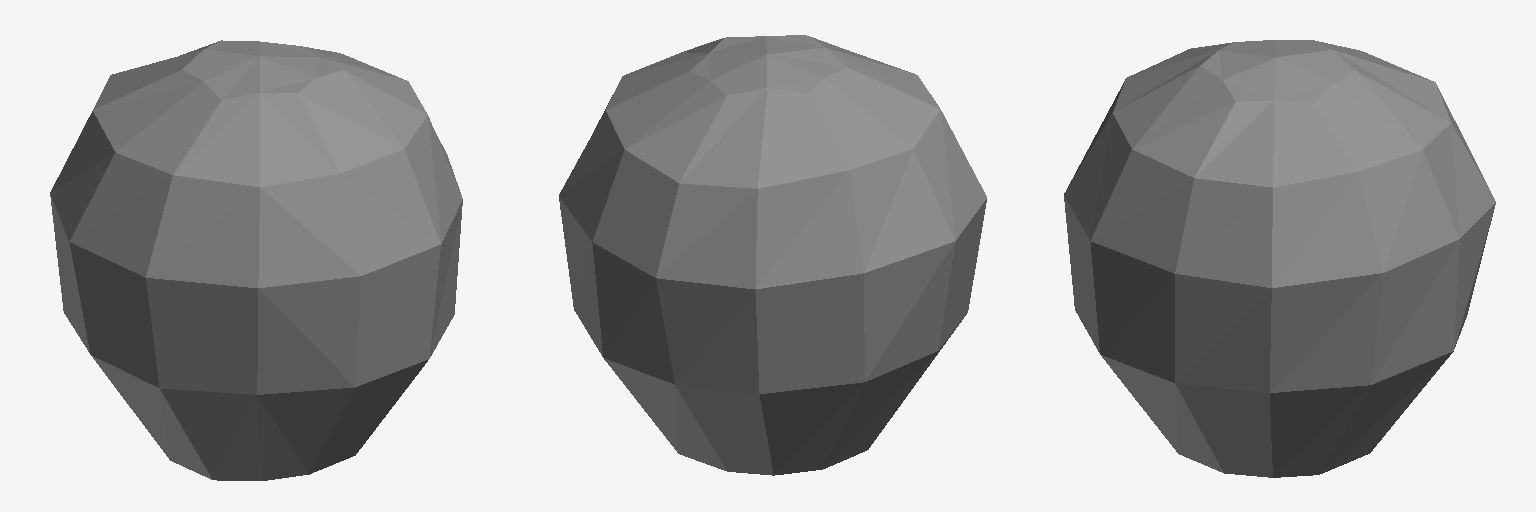
File: Evergreen_Shrub.obj
3 views of the same model, side by side, from view 1: azimuth 30°, elevation 25°; view 2: azimuth 150°, elevation 25°; view 3: azimuth 270°, elevation 25° (orthographic).
Visible parts, largest first — view 1: Evergreen_Shrub; view 2: Evergreen_Shrub; view 3: Evergreen_Shrub.
Boxes of the visible parts, x1,y1,x2,y2 form: Evergreen_Shrub: [50, 40, 462, 480]; Evergreen_Shrub: [559, 35, 986, 475]; Evergreen_Shrub: [1064, 40, 1495, 477].
Bounding box in the file's own units: 0.6554 × 0.6694 × 0.6559.